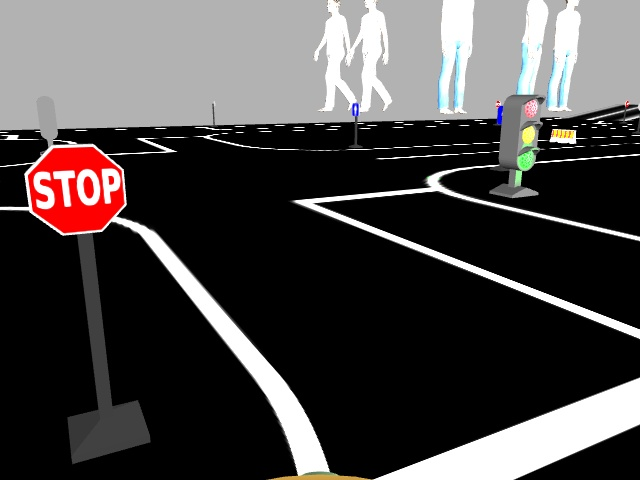ClosedRoadStand: (551, 128, 577, 144)
Stop: (25, 142, 129, 232)
TrafficLight: (505, 96, 539, 171)
